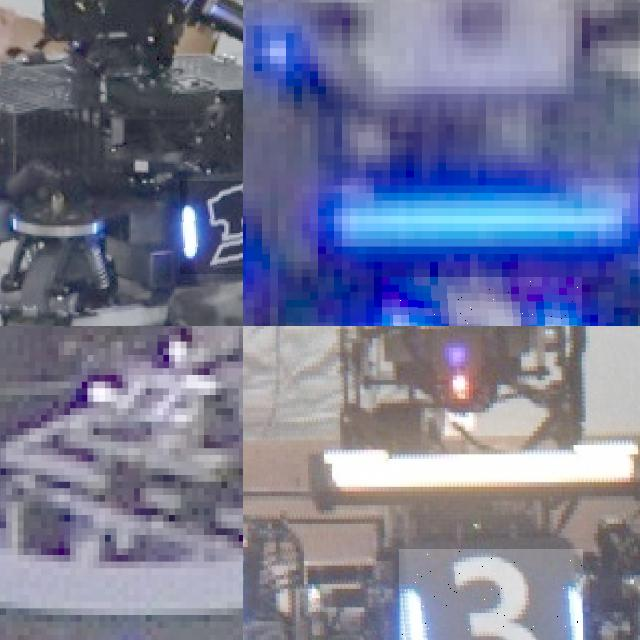B3: (398, 549, 583, 640), (382, 276, 582, 326)
Bs: (180, 181, 243, 274)
